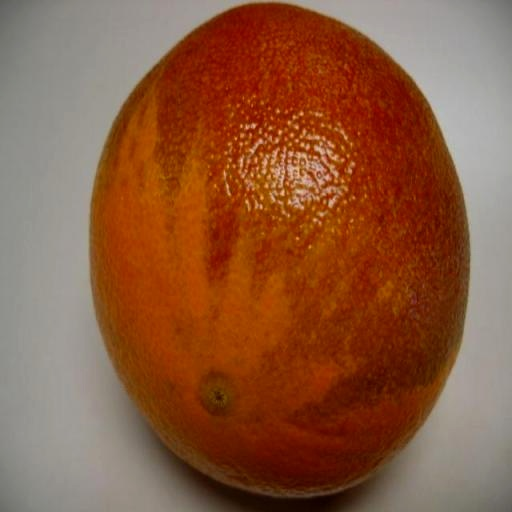fruit: (91, 4, 468, 495)
